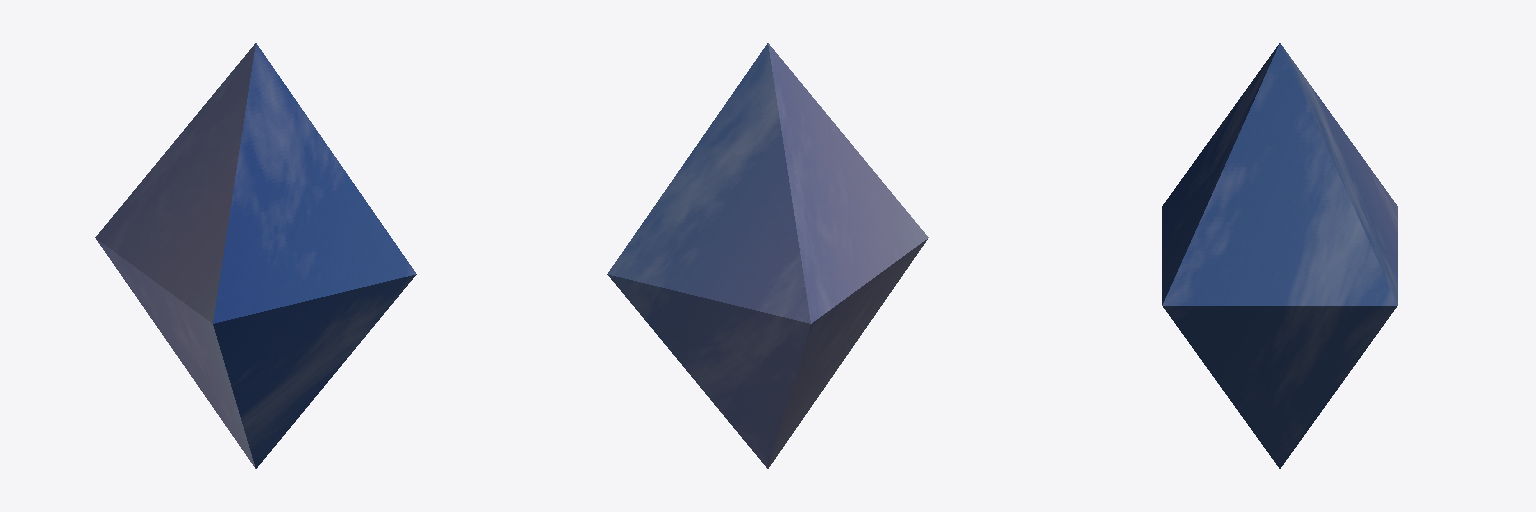
3 renders of one model, left to right at view 1: azimuth 30°, elevation 25°; view 2: azimuth 150°, elevation 25°; view 3: azimuth 270°, elevation 25°, orthographic.
Visible parts, largest first — view 1: 立方体; view 2: 立方体; view 3: 立方体.
Boxes of the visible parts, x1,y1,x2,y2 form: 立方体: [95, 43, 416, 468]; 立方体: [607, 43, 928, 468]; 立方体: [1162, 43, 1397, 468].
Bounding box in the file's own units: 1 × 2 × 1.
Materials: 1 (1 with a texture image).